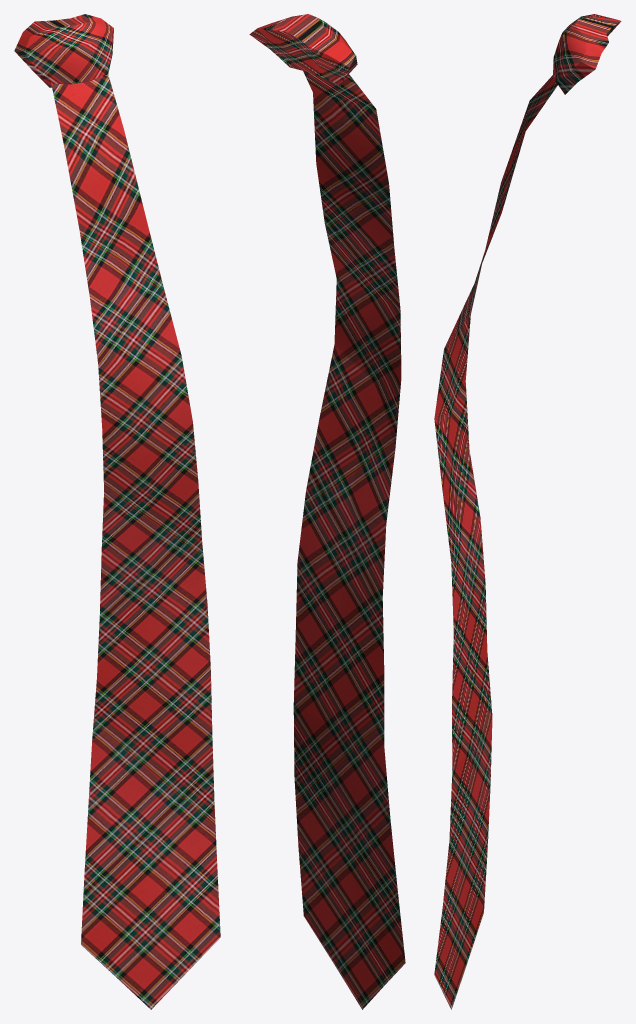
Rendered from Pose-1_Tie-1.fbx.
The picture shows the model from 3 angles, left to right: view 1: azimuth 30°, elevation 25°; view 2: azimuth 150°, elevation 25°; view 3: azimuth 270°, elevation 25°; orthographic projection. The views are drawn at different scales.
Visible parts, largest first — view 1: Pose-1_Tie-1; view 2: Pose-1_Tie-1; view 3: Pose-1_Tie-1.
Part boxes in pixels (left/top/right/bottom): Pose-1_Tie-1: left=14, top=14, right=220, bottom=1009; Pose-1_Tie-1: left=249, top=14, right=405, bottom=1009; Pose-1_Tie-1: left=434, top=14, right=621, bottom=1009.
Size of the model in its own units: 7.11 by 51.37 by 8.91.
